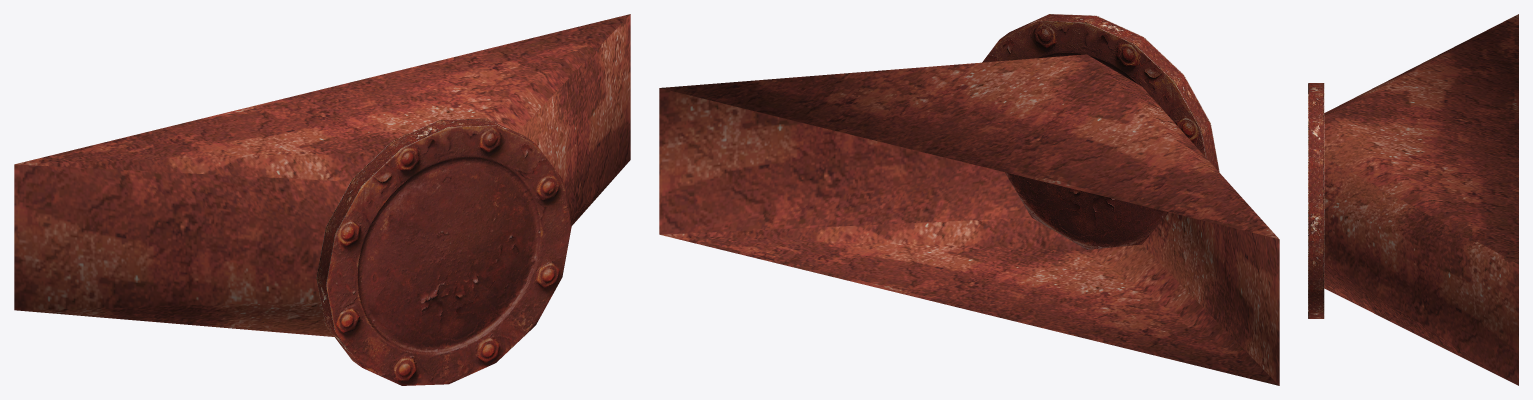
File: gate_red.DAE
3 renders of one model, left to right at view 1: azimuth 30°, elevation 25°; view 2: azimuth 150°, elevation 25°; view 3: azimuth 270°, elevation 25°, orthographic. The views are drawn at different scales.
Visible parts, largest first — view 1: Object532, Object533; view 2: Object532, Object533; view 3: Object532, Object533.
Part boxes in pixels (x1,y1,x2,y2): Object532: (14,14,630,336); Object533: (316,118,571,385); Object532: (659,54,1279,385); Object533: (982,14,1219,249); Object532: (1324,14,1518,385); Object533: (1308,83,1324,318).
Bounding box in the file's own units: 1.65 × 0.5858 × 0.6566.
